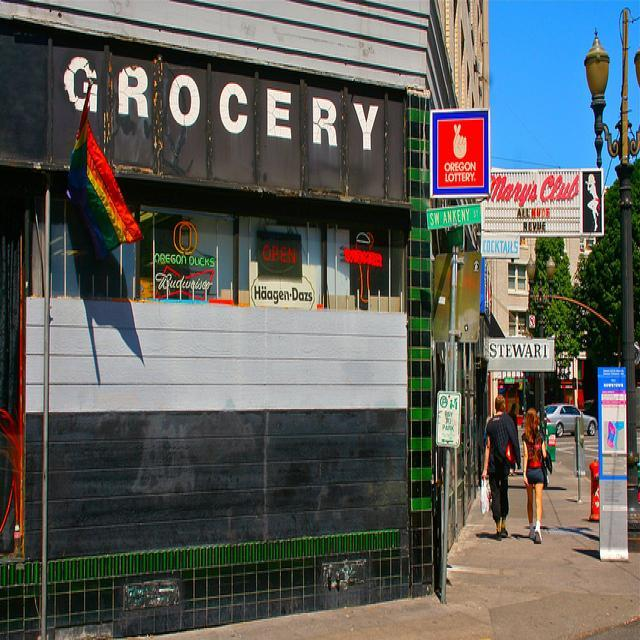fire_hydrant: (585, 460, 598, 523)
